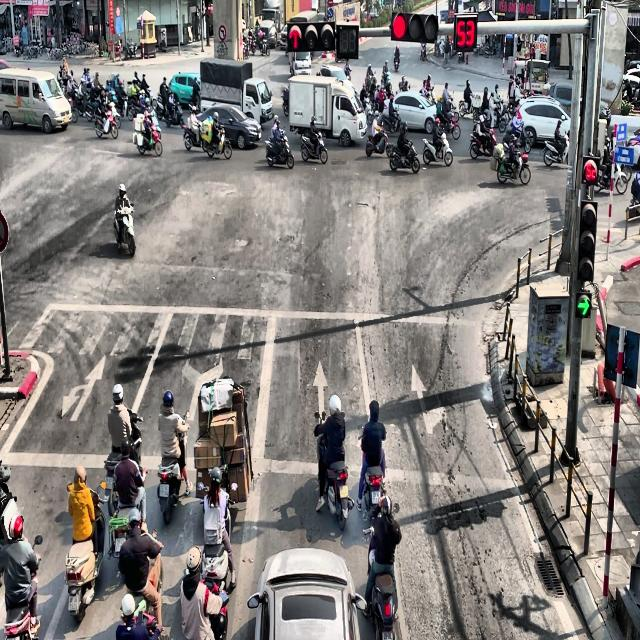CAR: (247, 546, 367, 640), (185, 103, 262, 151), (516, 97, 571, 147), (391, 92, 437, 133), (168, 72, 201, 108)
MOTORBIKE: (64, 486, 107, 623), (3, 536, 43, 639), (362, 527, 398, 639), (156, 411, 190, 526), (108, 466, 148, 558), (103, 410, 143, 497), (317, 436, 354, 530), (356, 424, 389, 521), (0, 461, 23, 544), (496, 145, 531, 185), (132, 116, 163, 156), (182, 116, 214, 154), (386, 139, 420, 174), (265, 128, 294, 169), (595, 159, 628, 195), (114, 202, 135, 256), (201, 124, 232, 160), (422, 131, 453, 166), (300, 130, 328, 163), (543, 131, 569, 166), (469, 127, 496, 159), (94, 106, 119, 140), (365, 127, 389, 156), (437, 111, 461, 139), (164, 94, 182, 126), (458, 93, 481, 117), (379, 108, 401, 133), (259, 36, 270, 56), (398, 76, 411, 92), (281, 88, 288, 116), (420, 43, 427, 61), (394, 54, 400, 70)
TRAFFIC_LIGHT: (286, 18, 336, 52), (577, 199, 597, 282), (390, 10, 439, 42), (453, 13, 478, 51), (582, 157, 598, 186)
TRUCK: (199, 58, 273, 125)
